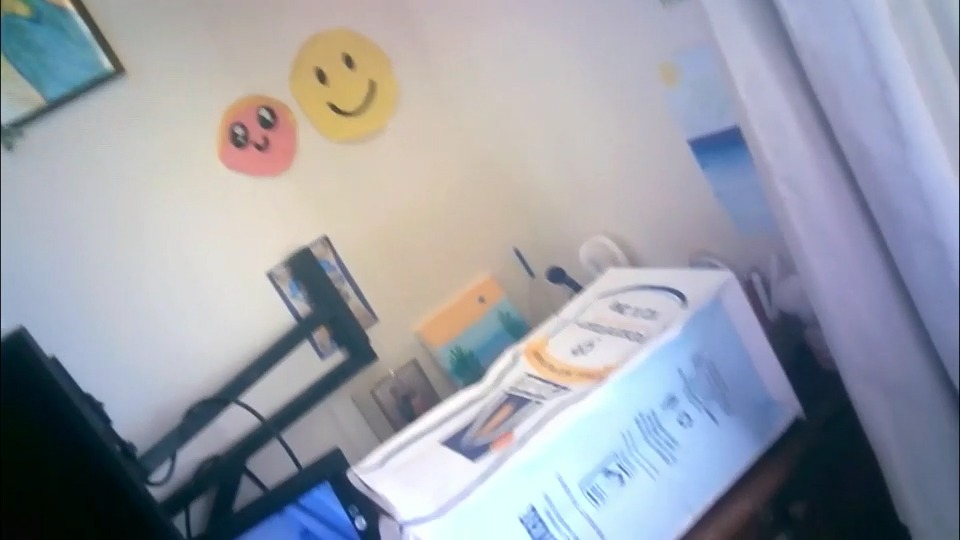wheat_flour_blue_label: (340, 269, 800, 537)
